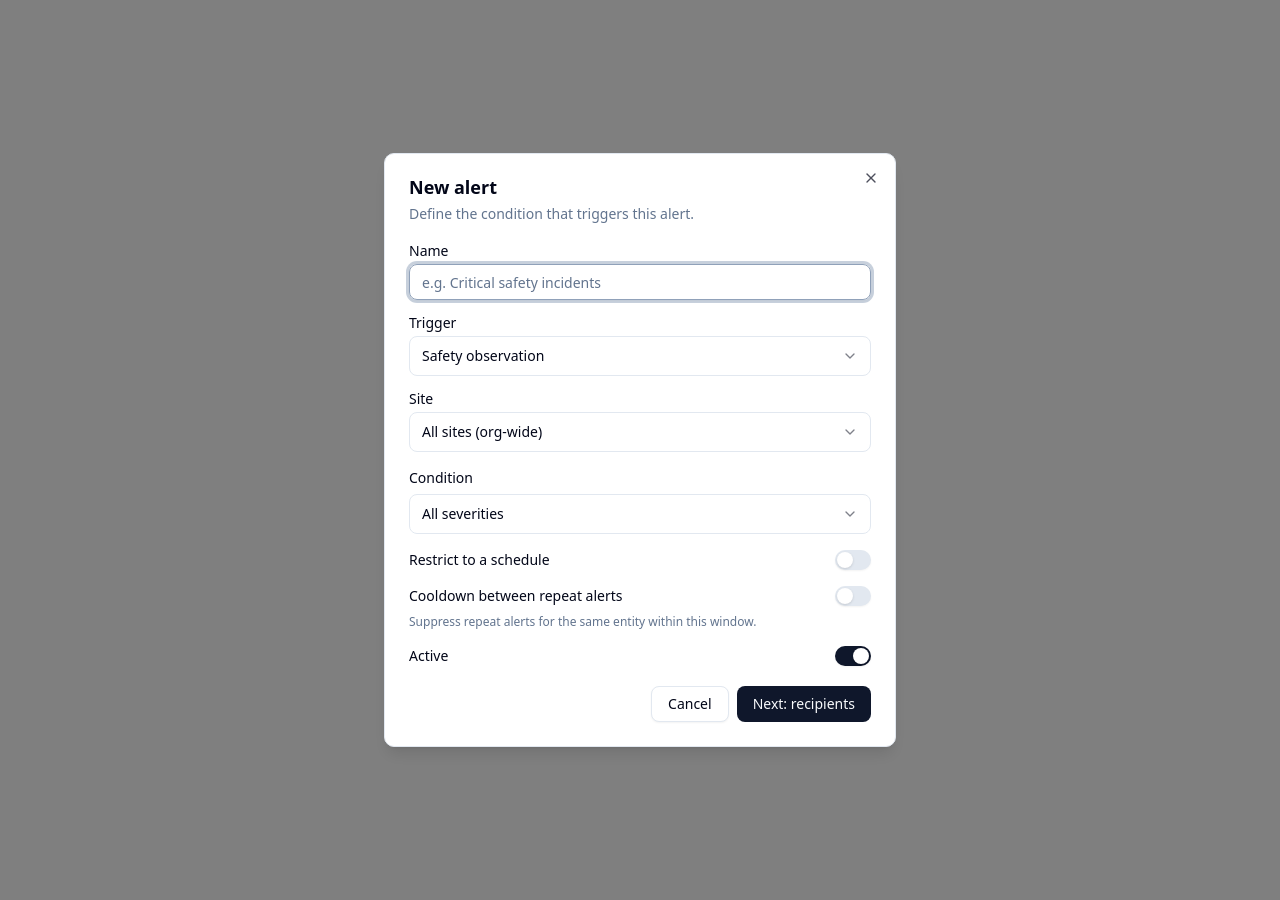
Test: PolicyDialog - create mode step flow › advances to the recipients step after entering a name and clicking Next
This screenshot has width=1280, height=900.
Type "My new alert" into the field labelled "Name" at (640,282), box [409, 264, 871, 300]
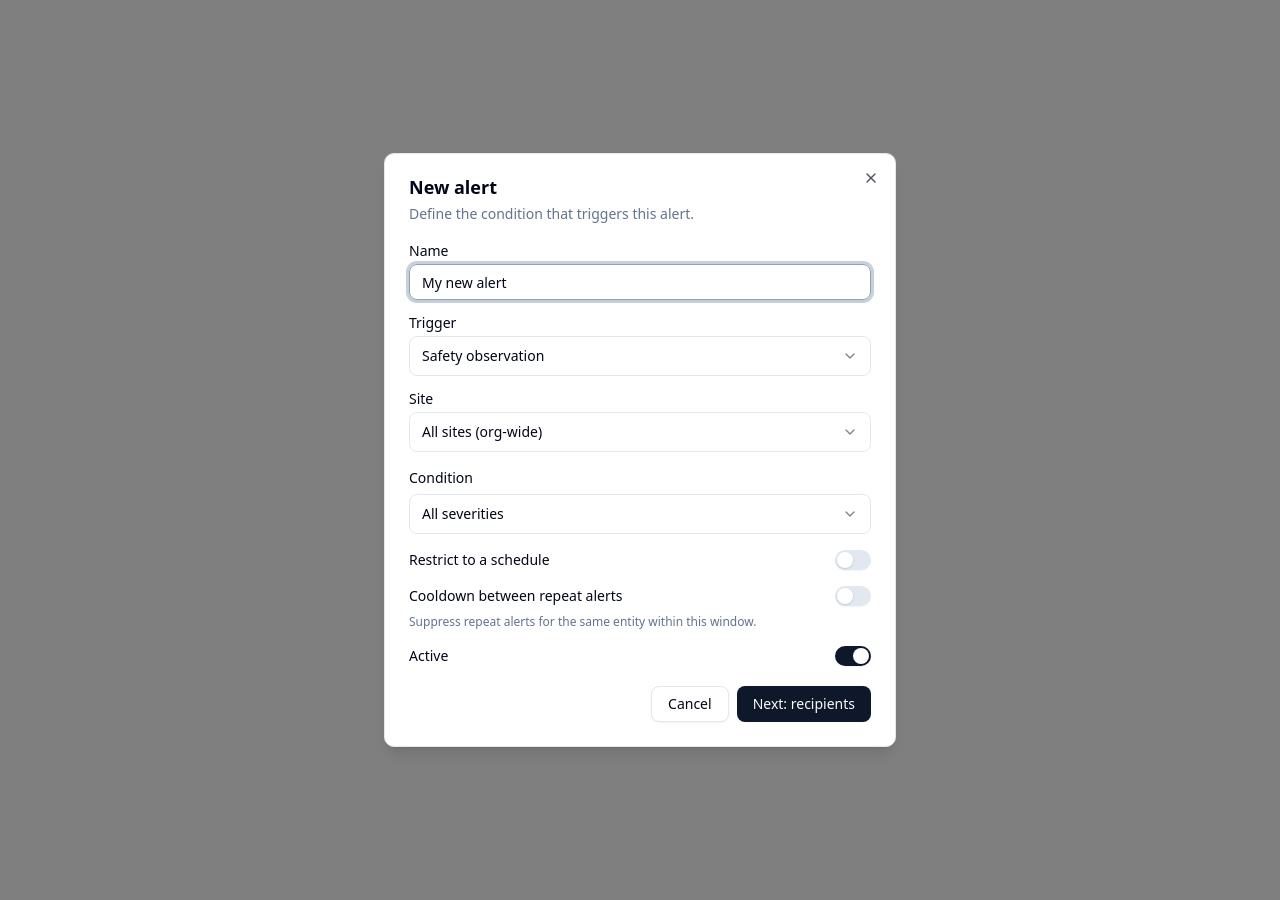
Click the button "Next: recipients" at (804,704), box [737, 686, 871, 722]
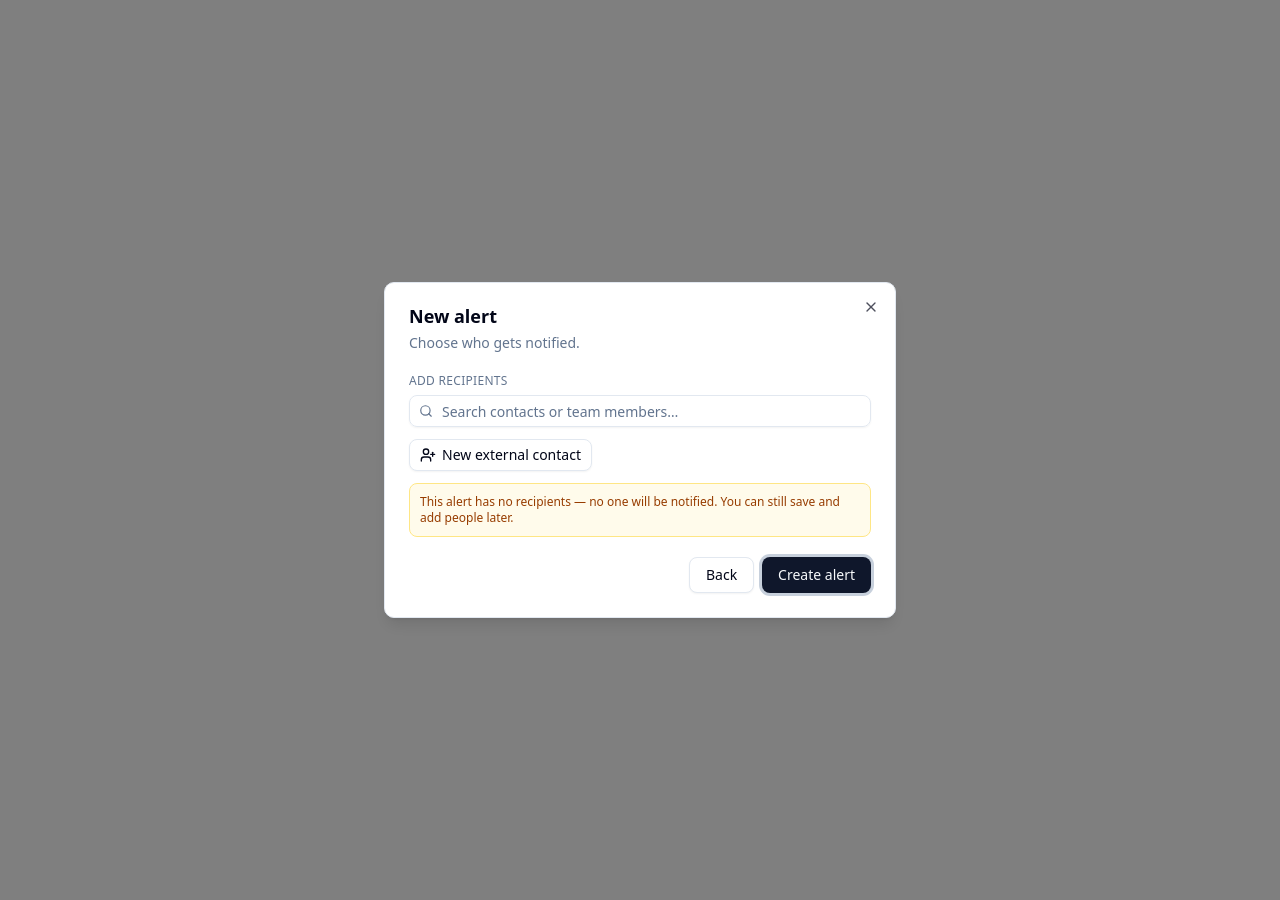
Check: the text "Choose who gets notified." is shown, box [409, 333, 580, 352]
Check: the button "Create alert" is shown, box [762, 557, 871, 593]
